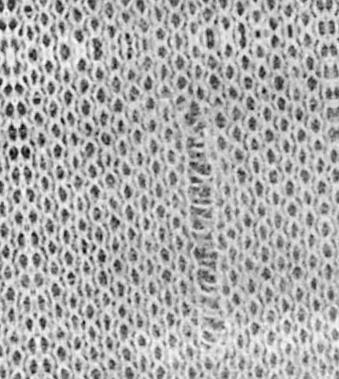slub: (181, 126, 228, 339)
